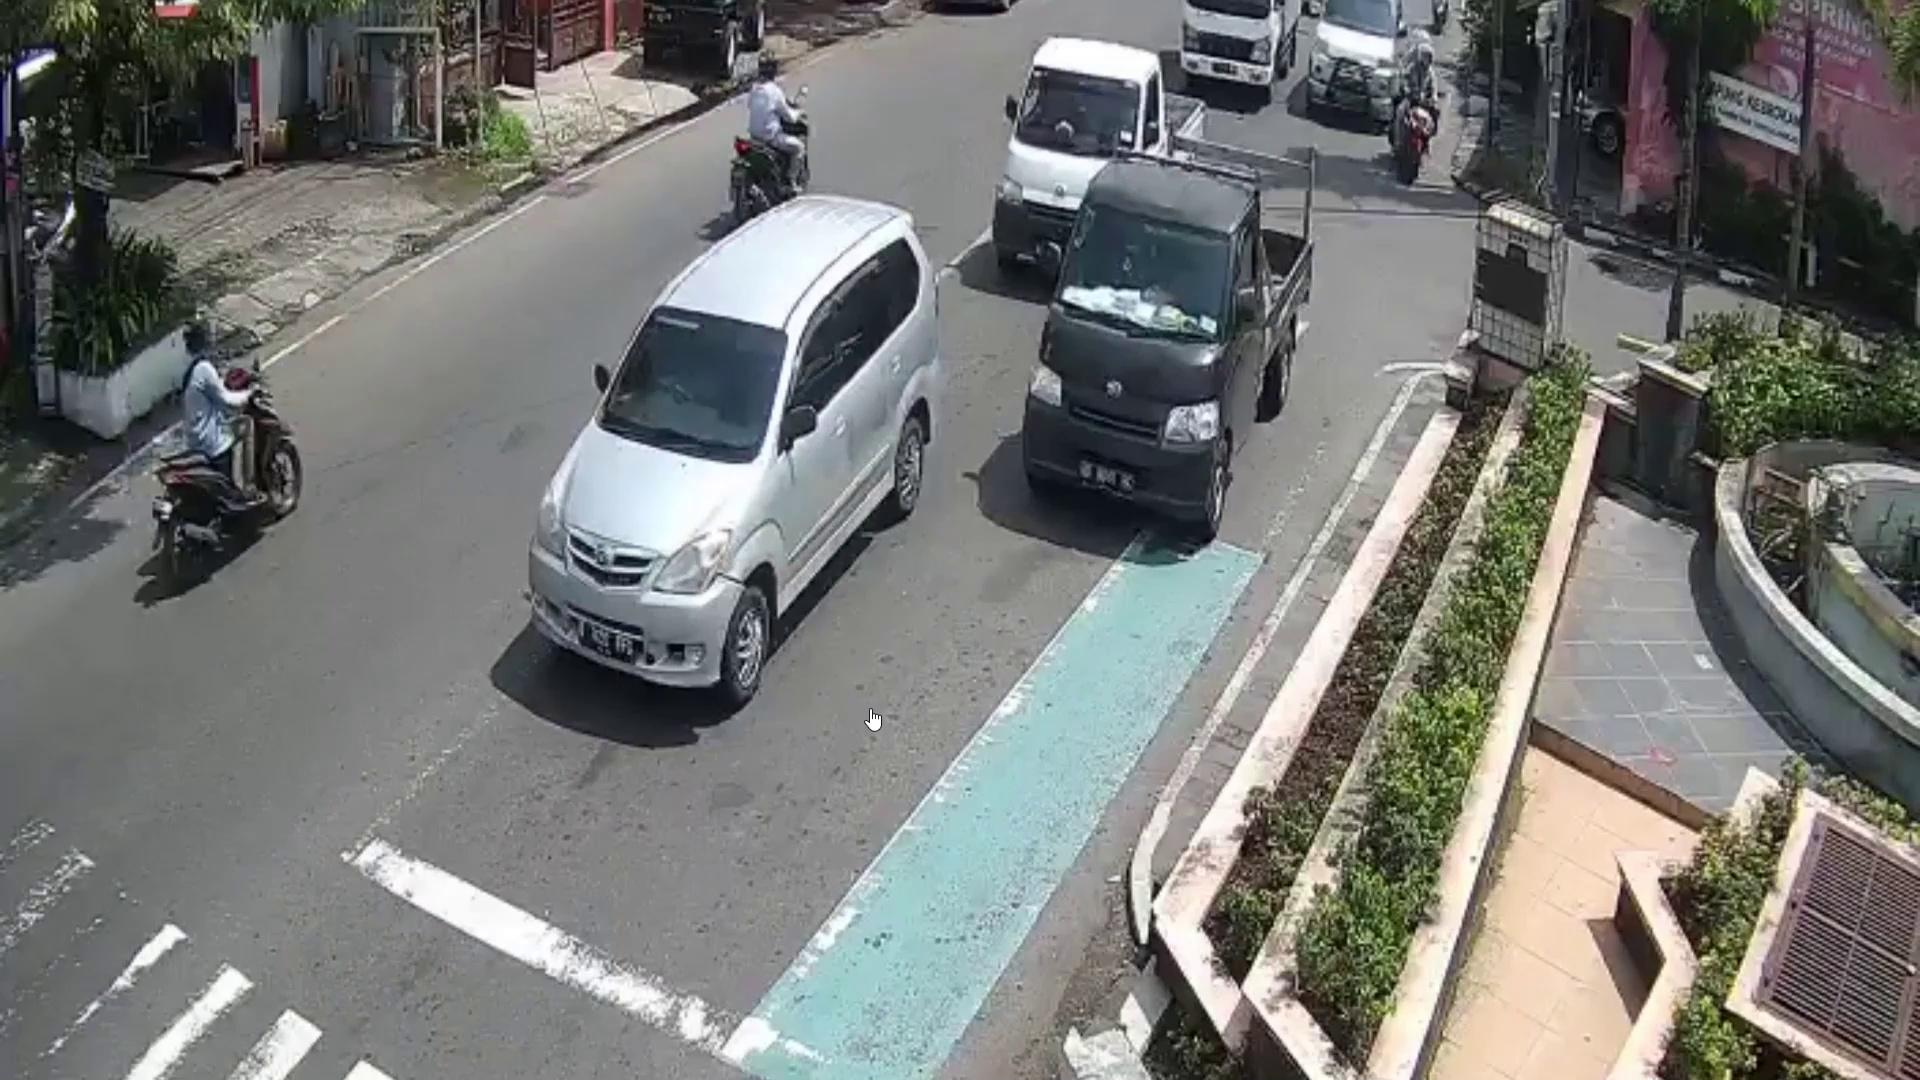car: (527, 196, 938, 709), (1026, 157, 1311, 539), (996, 37, 1205, 266), (1309, 0, 1414, 127)
motorbike: (150, 372, 302, 588), (731, 102, 812, 208)
truck: (1180, 0, 1299, 103)
